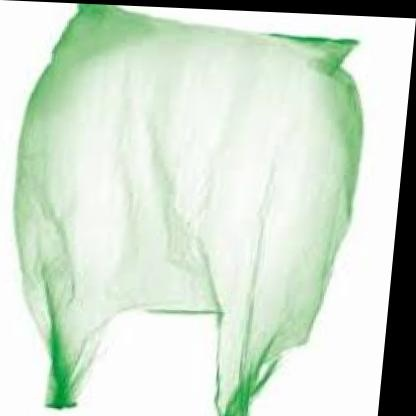trash: (15, 6, 362, 415)
